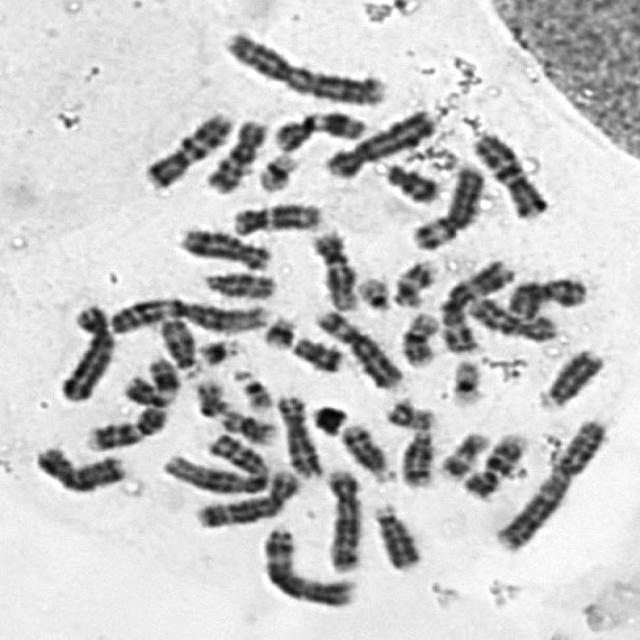A1: (155, 427, 273, 497), (104, 289, 273, 335)
A2: (488, 412, 612, 554), (215, 22, 393, 106)
A3: (256, 519, 362, 609), (432, 252, 516, 355)
B4: (318, 102, 439, 179), (51, 296, 117, 403)
B5: (188, 463, 305, 529), (318, 461, 367, 574)
C10: (200, 111, 272, 194), (460, 289, 562, 343)
C11: (266, 103, 371, 153), (116, 349, 182, 408)
C12: (304, 225, 362, 313), (226, 195, 327, 237)
C6: (308, 302, 406, 391), (403, 157, 488, 251)
C7: (137, 104, 238, 191), (464, 123, 551, 221)
C8: (172, 218, 276, 272), (269, 386, 326, 479)
C9: (458, 424, 532, 498), (78, 399, 174, 453)
D13: (532, 342, 608, 412), (366, 496, 426, 572)
D14: (334, 416, 399, 484), (394, 421, 439, 490)
D15: (151, 310, 201, 380), (196, 264, 281, 300)
E16: (394, 305, 444, 369), (213, 402, 281, 446)
E17: (432, 424, 493, 481), (386, 252, 442, 308)
E18: (377, 156, 444, 204), (285, 328, 351, 374)
F19: (250, 144, 302, 194), (443, 351, 487, 409)
F20: (378, 394, 441, 431), (192, 381, 229, 418)
G21: (191, 329, 247, 366), (255, 308, 300, 351)
G22: (225, 361, 276, 412), (351, 269, 395, 313)
X: (28, 438, 132, 494), (499, 268, 592, 320)
Y: (305, 396, 351, 436)
